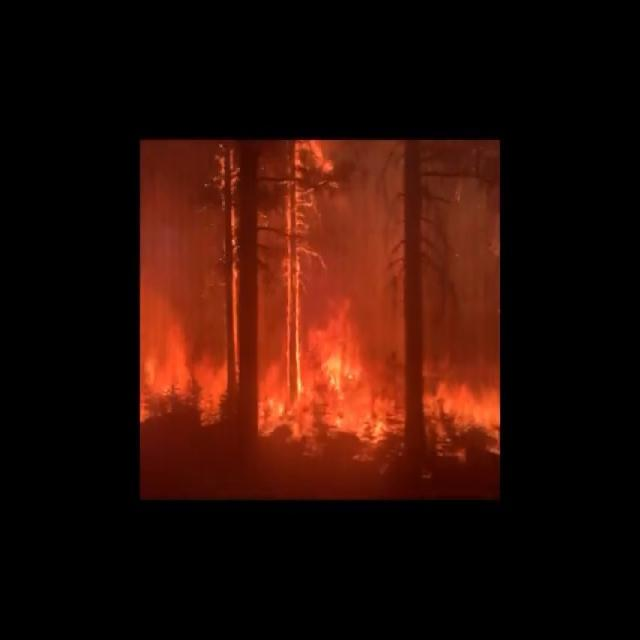Fire: (255, 305, 500, 432)
